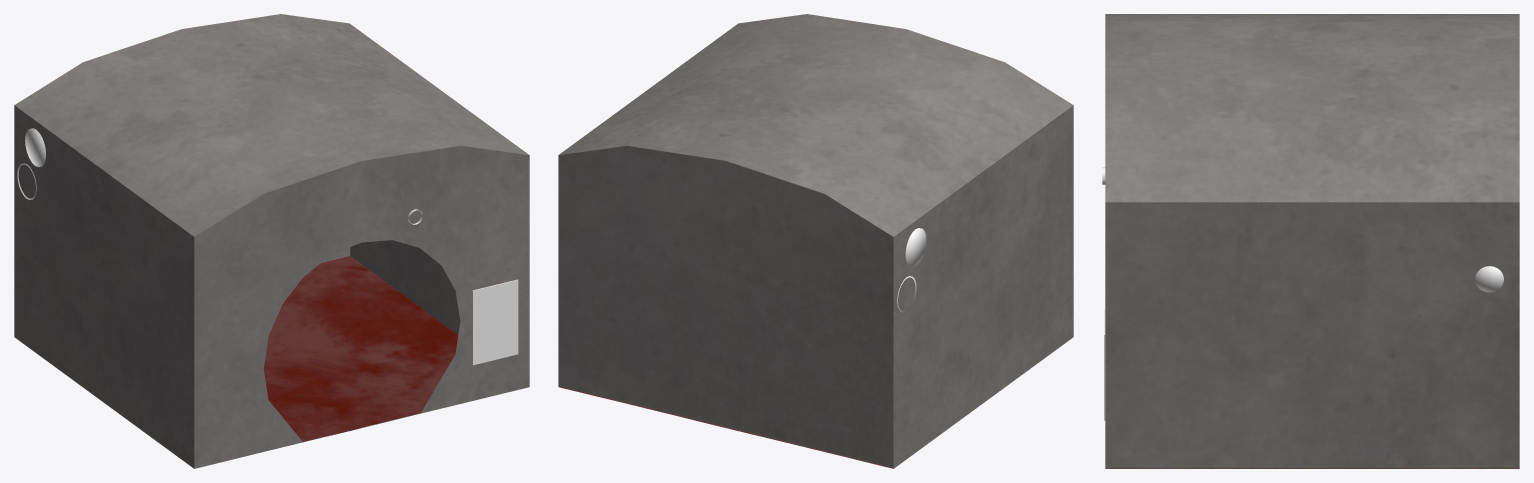
Rendered from room.fbx.
3 renders of one model, left to right at view 1: azimuth 30°, elevation 25°; view 2: azimuth 150°, elevation 25°; view 3: azimuth 270°, elevation 25°, orthographic. The views are drawn at different scales.
Parts seen in each view (by area): view 1: __pCylinder34polySurface2, __pCube19, __pCylinder46; view 2: __pCylinder34polySurface2, _polySurface2_pCylinder35, __pCylinder46; view 3: __pCylinder34polySurface2, __pCylinder46.
Boxes of the visible parts, <box> form: __pCylinder34polySurface2: <box>14,14,529,468</box>; __pCube19: <box>472,279,518,365</box>; __pCylinder46: <box>17,128,45,199</box>; __pCylinder34polySurface2: <box>558,14,1073,468</box>; _polySurface2_pCylinder35: <box>559,146,893,467</box>; __pCylinder46: <box>897,228,926,312</box>; __pCylinder34polySurface2: <box>1105,14,1519,468</box>; __pCylinder46: <box>1475,266,1503,292</box>.
Bounding box in the file's own units: 744 × 564 × 694.
